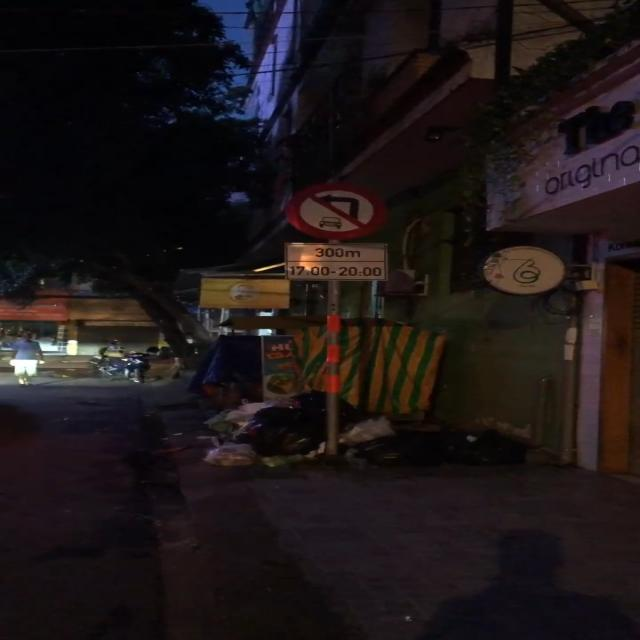Bien bao cam xe o to re trai: (276, 183, 388, 240)
